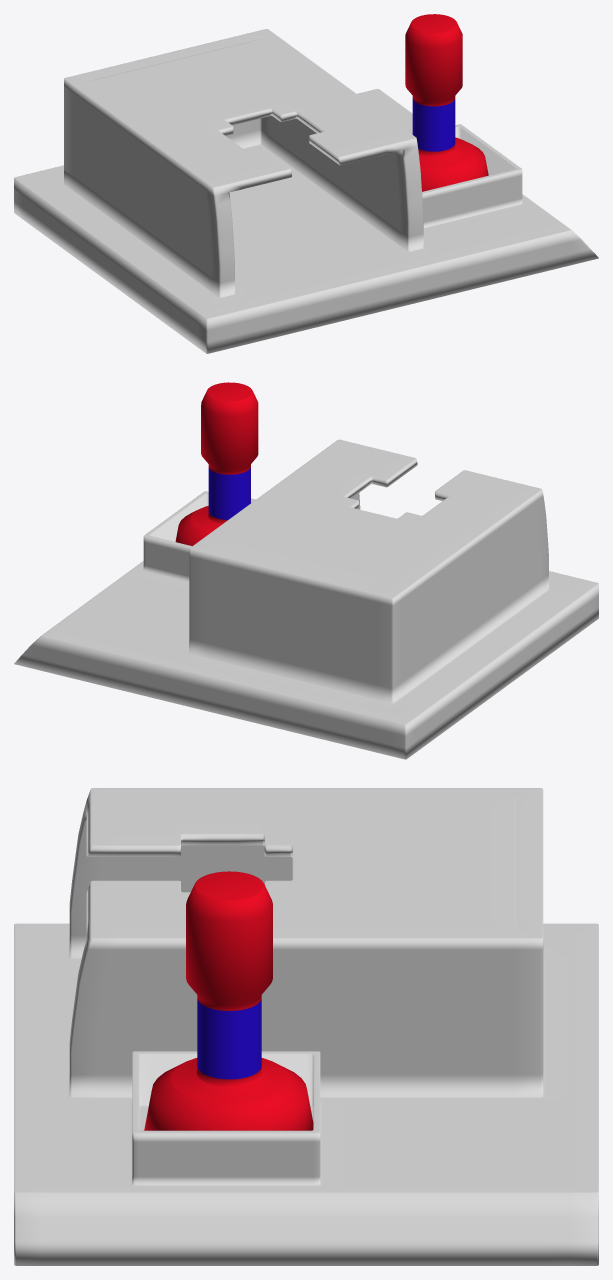
File: TamperV2.fbx
The picture shows the model from 3 angles, top to bottom: view 1: azimuth 30°, elevation 25°; view 2: azimuth 150°, elevation 25°; view 3: azimuth 270°, elevation 25°; orthographic projection. The views are drawn at different scales.
Visible parts, largest first — view 1: Cube.001, Cylinder.003; view 2: Cube.001, Cylinder.003; view 3: Cube.001, Cylinder.003.
Part boxes in pixels (x1,y1,x2,y2): Cube.001: [14, 29, 598, 353]; Cylinder.003: [405, 14, 488, 191]; Cube.001: [14, 439, 598, 759]; Cylinder.003: [175, 382, 258, 545]; Cube.001: [14, 788, 598, 1265]; Cylinder.003: [144, 871, 313, 1130].
Bounding box in the file's own units: 23.43 × 11.73 × 20.
